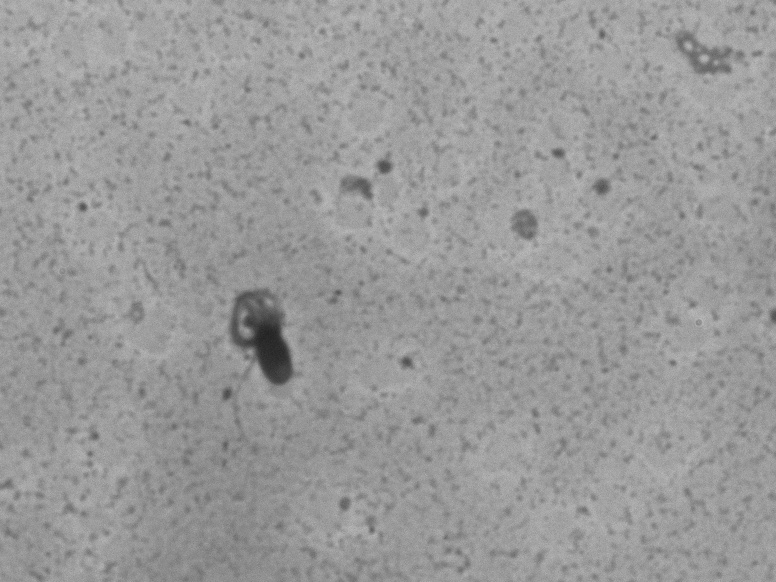Abnormal: (160, 271, 329, 440)
